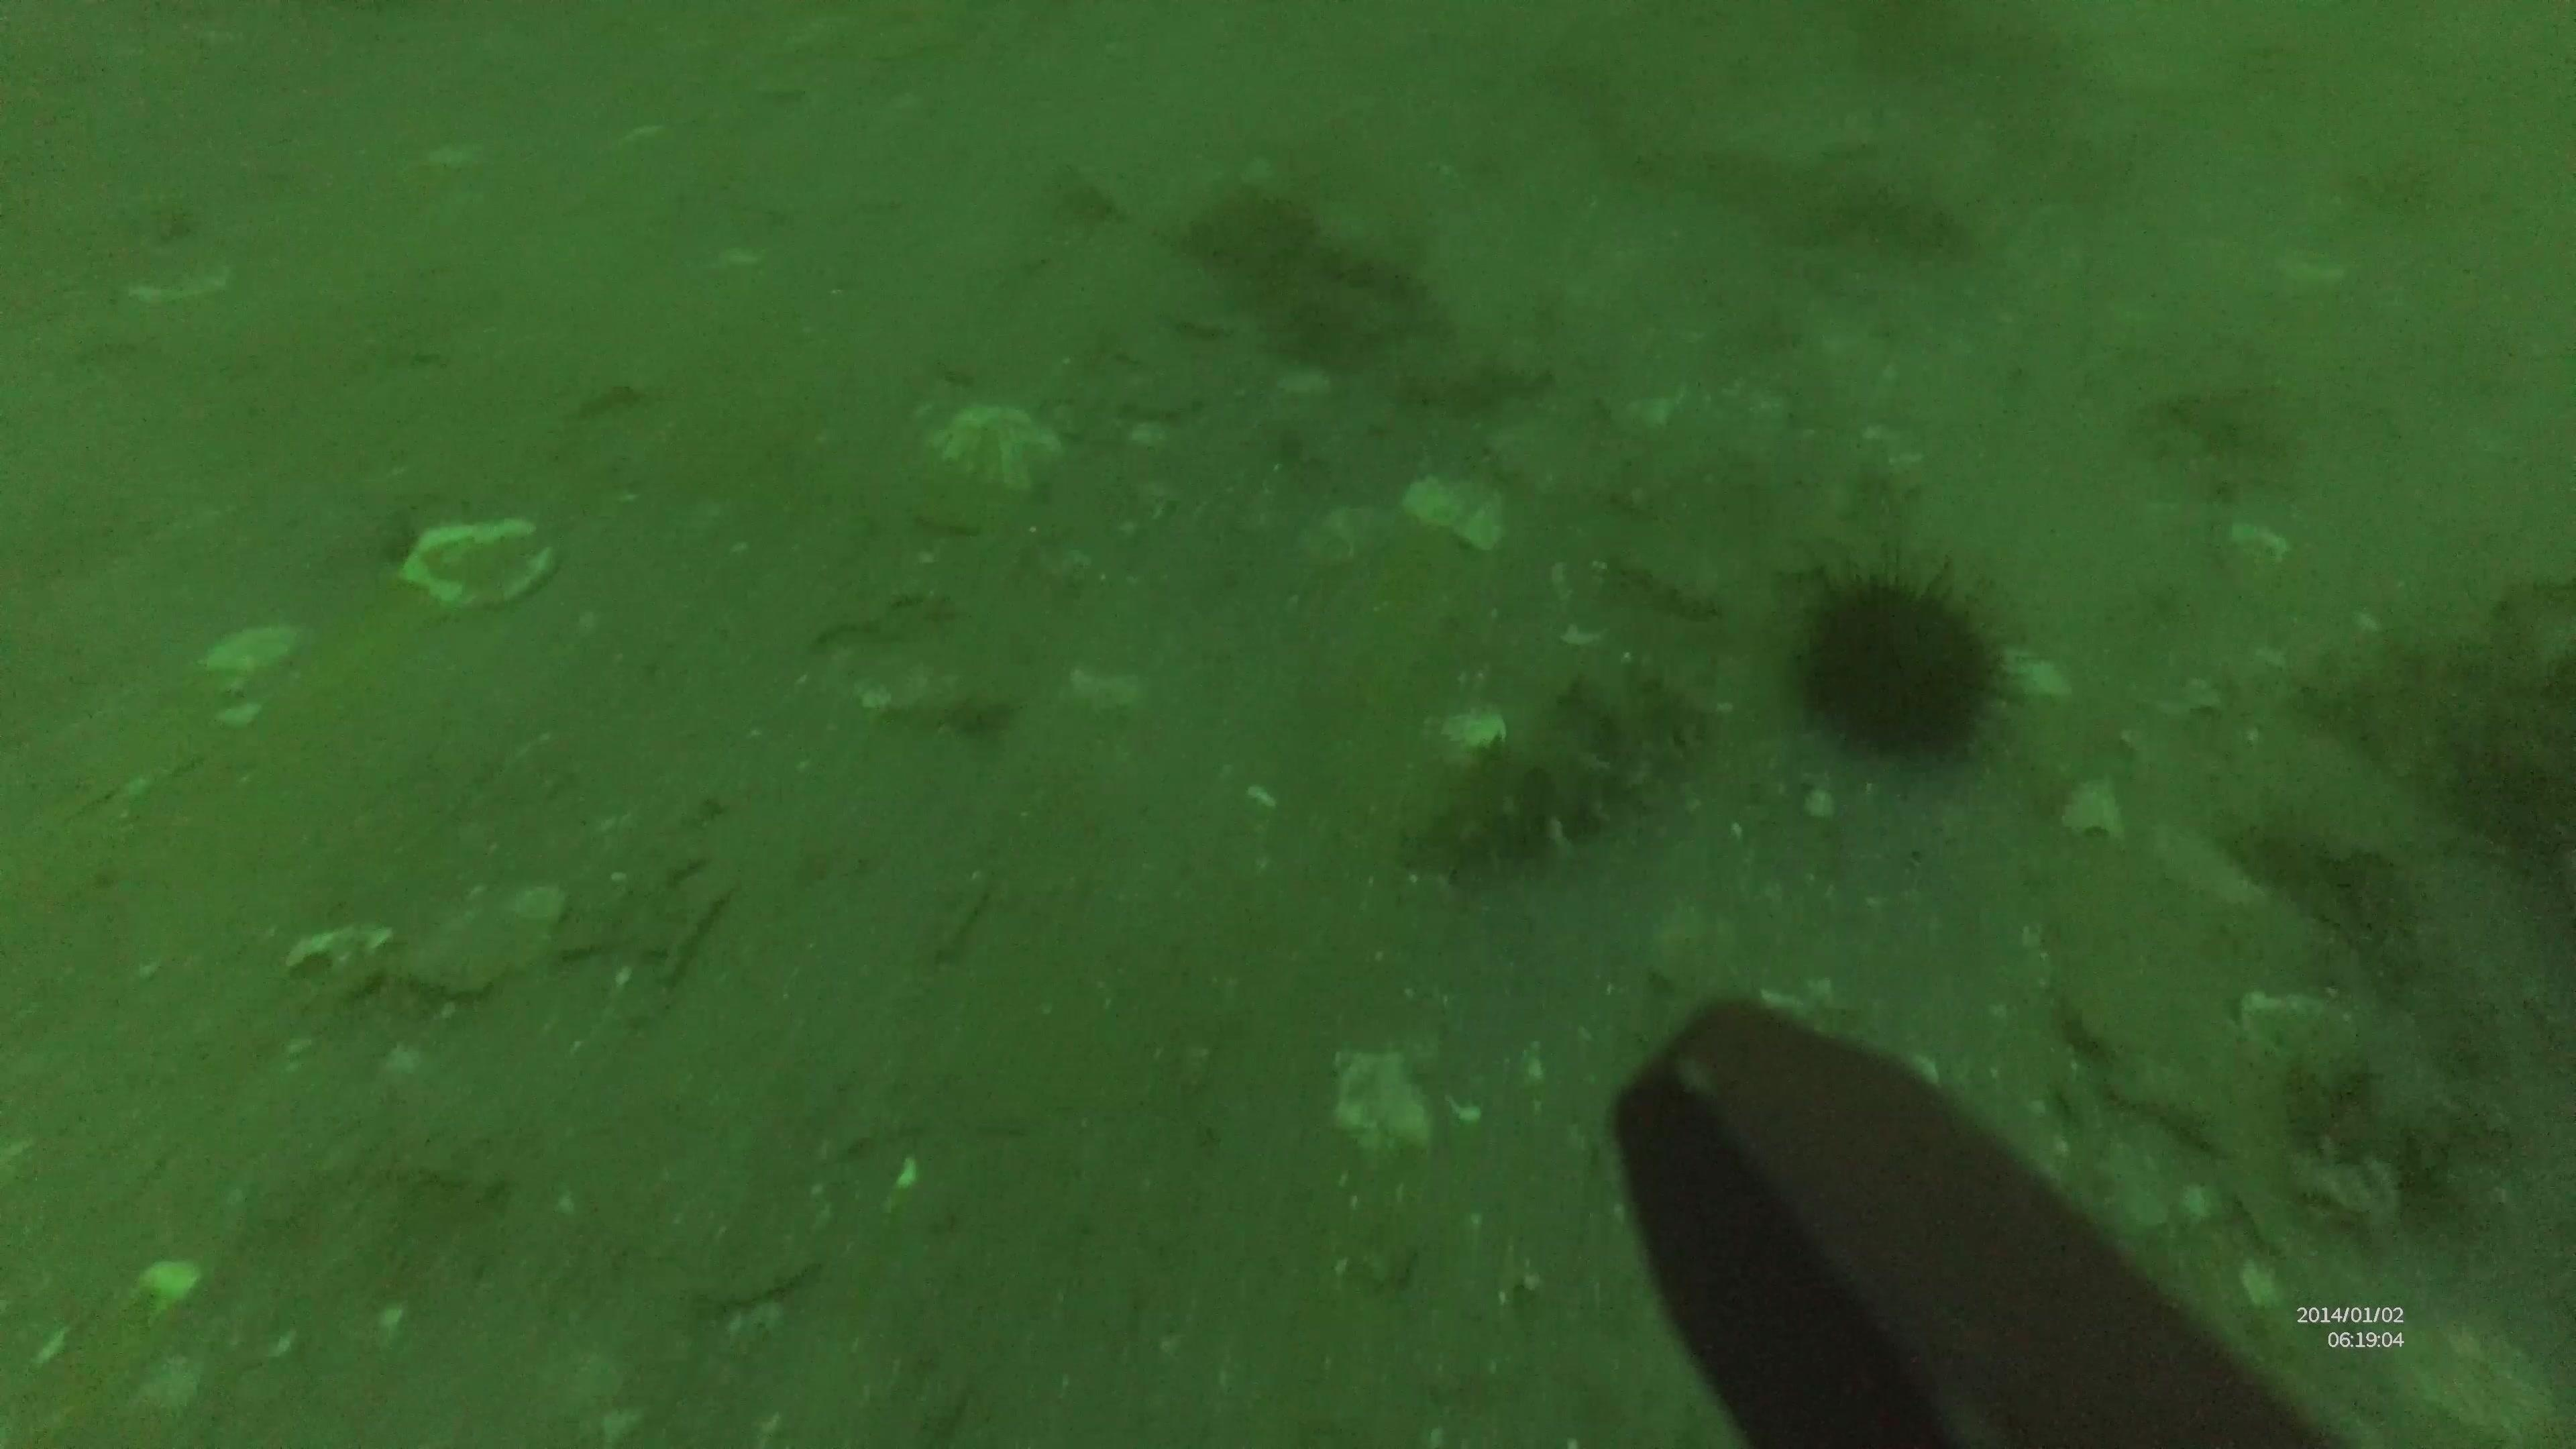echinus: (1785, 552, 2017, 771)
holothurian: (1405, 653, 1711, 879)
